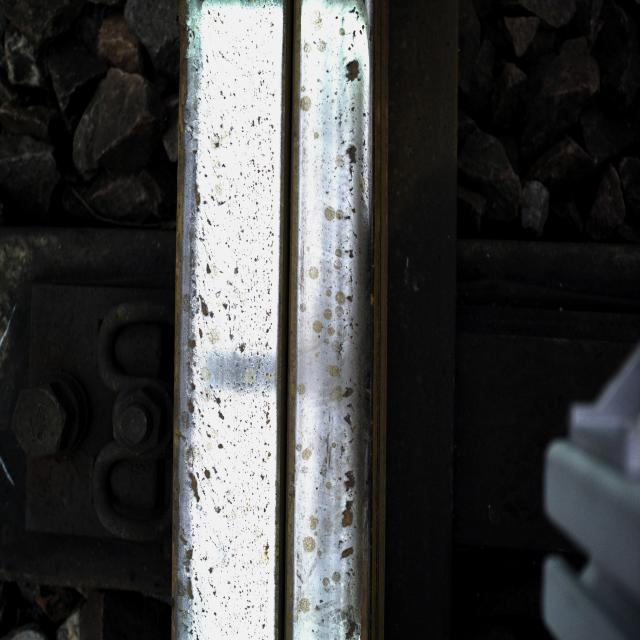scar: (178, 26, 254, 592), (302, 25, 356, 627)
